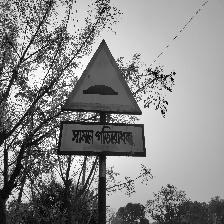Speed-breaker: (58, 39, 144, 156)
